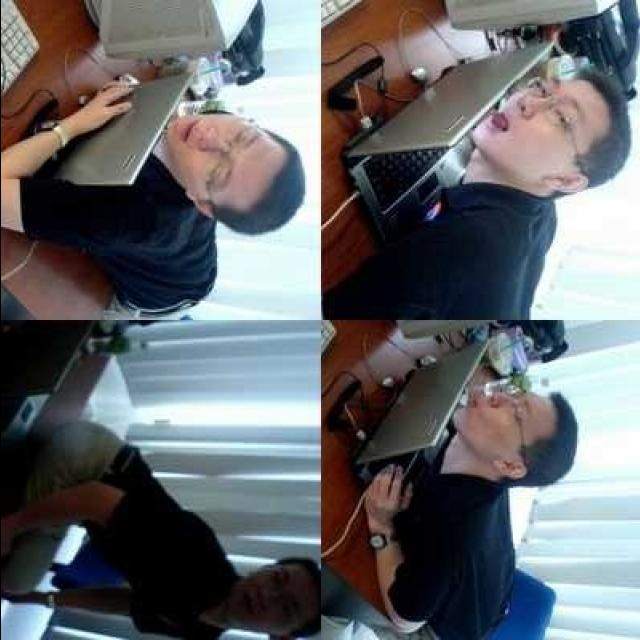laptop: (342, 42, 546, 230), (340, 334, 500, 516)
